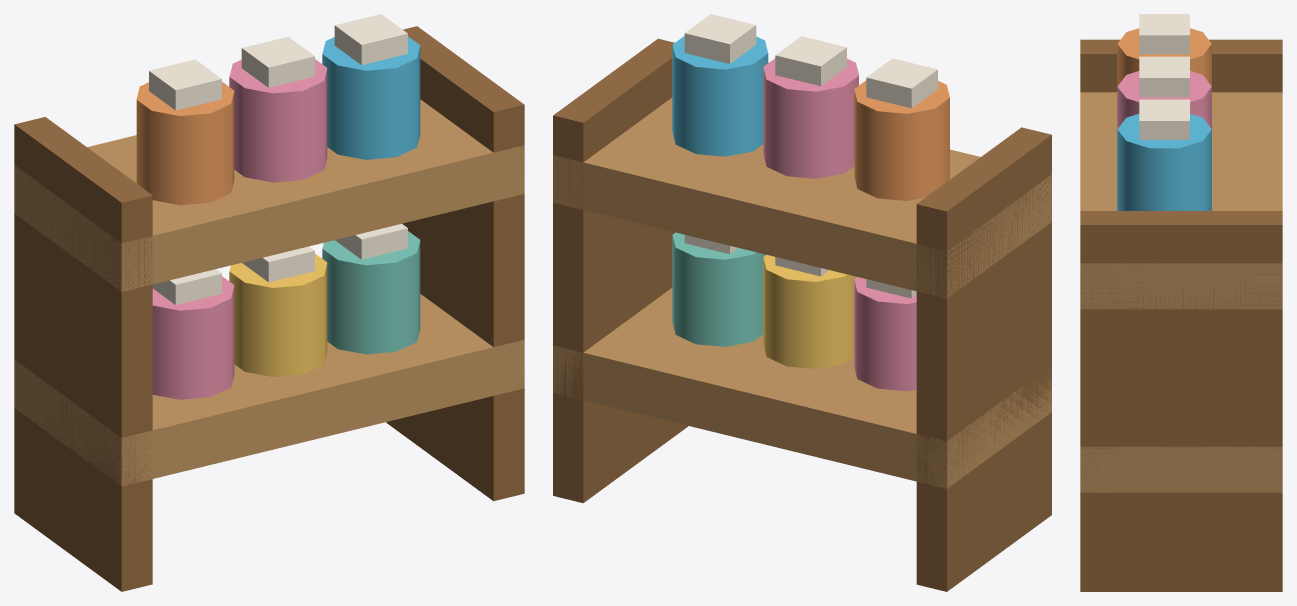
Rendered from jam_shelf.glb.
3 views of the same model, side by side, from view 1: azimuth 30°, elevation 25°; view 2: azimuth 150°, elevation 25°; view 3: azimuth 270°, elevation 25° (orthographic). The views are drawn at different scales.
Visible parts, largest first — view 1: jam_shelf; view 2: jam_shelf; view 3: jam_shelf.
Boxes of the visible parts, x1,y1,x2,y2 form: jam_shelf: [14, 14, 524, 591]; jam_shelf: [553, 14, 1051, 591]; jam_shelf: [1080, 14, 1282, 591].
Bounding box in the file's own units: 26 × 28.25 × 12.
